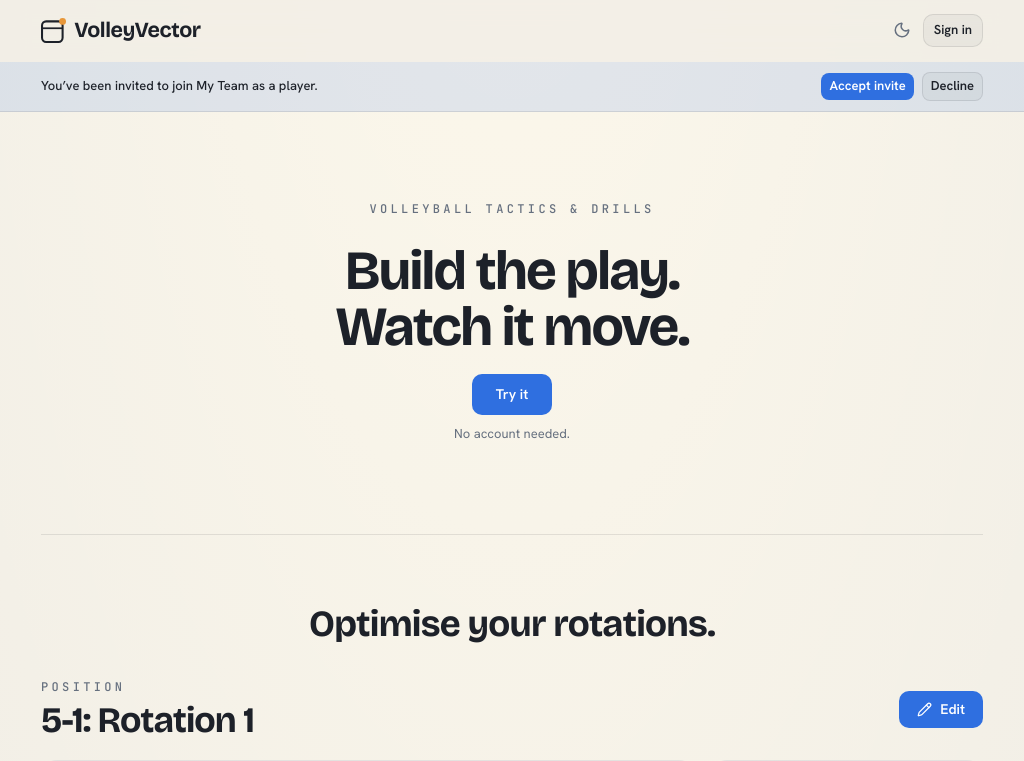
it: App wiring › Decline on the invite banner clears the token and returns to the standard landing
Click the button "Decline": click(952, 86) [922, 72, 983, 101]
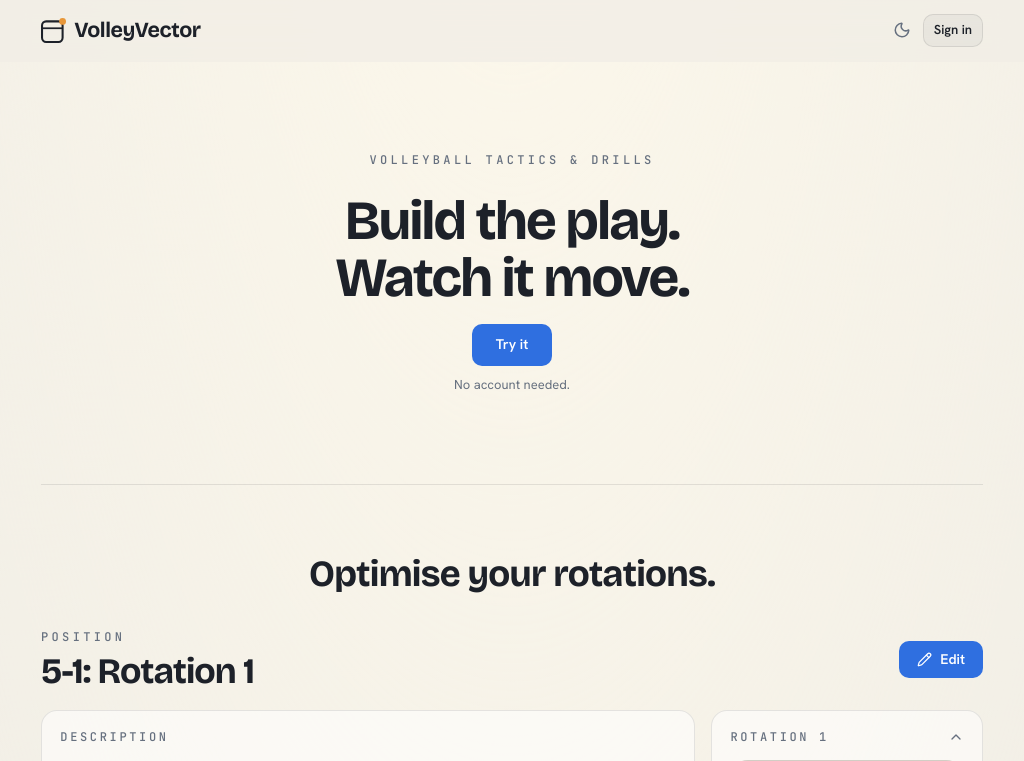
Expected: the button "Sign in" is shown, [923, 14, 983, 47]
Expected: the button "Accept invite" is gone
